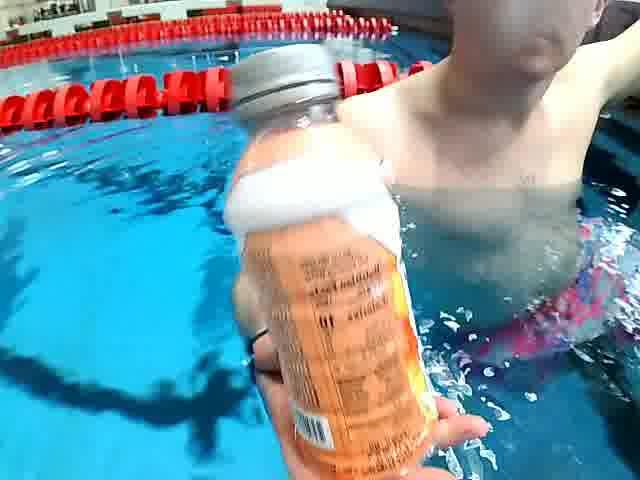Bottle: (222, 40, 449, 480)
